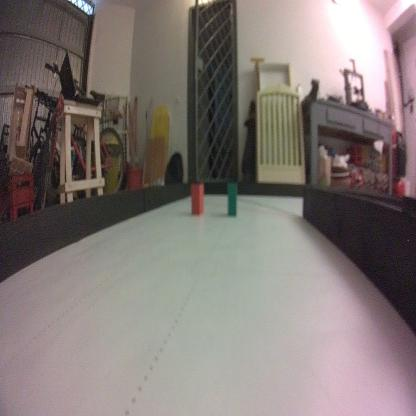green: (225, 179, 238, 217)
red: (190, 180, 204, 218)
